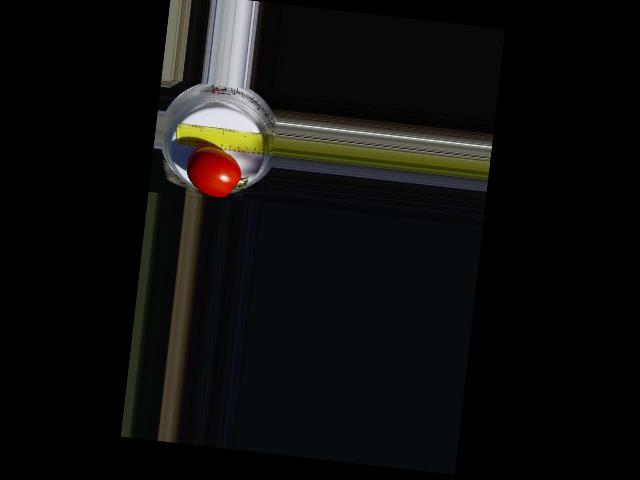tomato: (184, 143, 244, 200)
